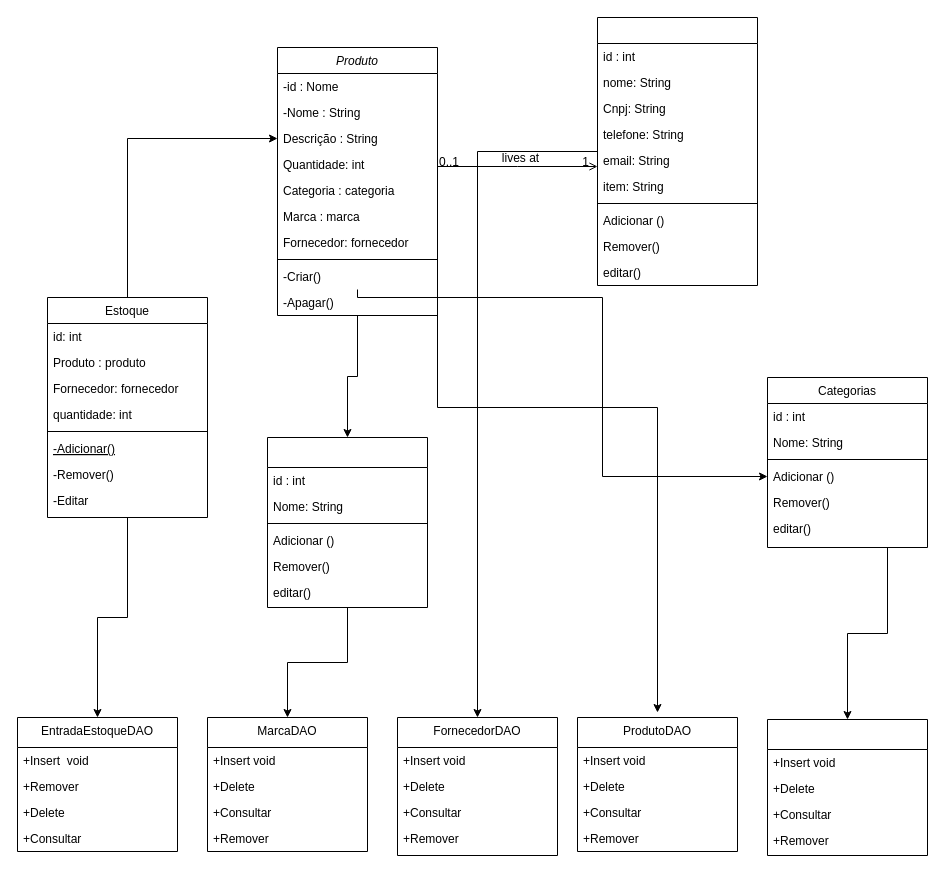
Image size: 945x876. Some labels were removed from this diagram. The shapes that lost their labels are listed below. From the top down, each one's box as (x1, y1, x2, y2) in pixels, then its label:
(596, 16, 758, 286): Fornecedor
(266, 436, 428, 608): Marca
(766, 718, 928, 856): SimpleDAO
